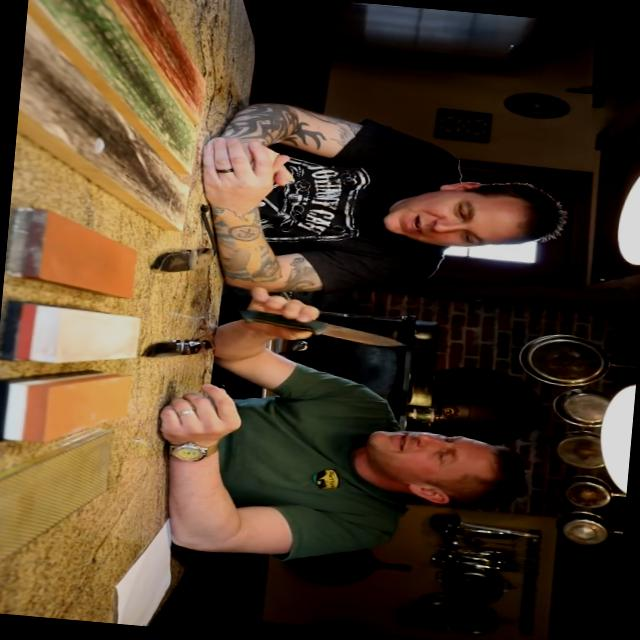knife: (244, 286, 418, 358)
